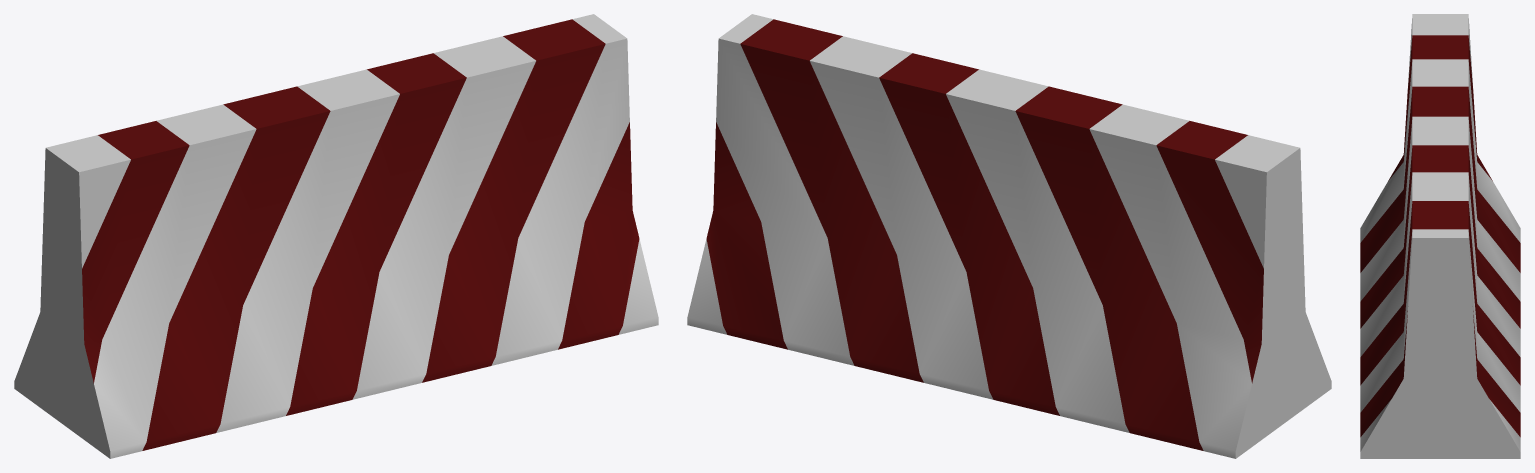
The model's file is Props11.fbx.
3 views of the same model, side by side, from view 1: azimuth 30°, elevation 25°; view 2: azimuth 150°, elevation 25°; view 3: azimuth 270°, elevation 25° (orthographic). The views are drawn at different scales.
Visible parts, largest first — view 1: Props11; view 2: Props11; view 3: Props11.
Boxes of the visible parts, box(x1,y1,x2,y2) form: Props11: box(14, 14, 658, 458); Props11: box(687, 14, 1331, 458); Props11: box(1360, 14, 1520, 458).
Bounding box in the file's own units: 3.33 × 1.53 × 1.01.
